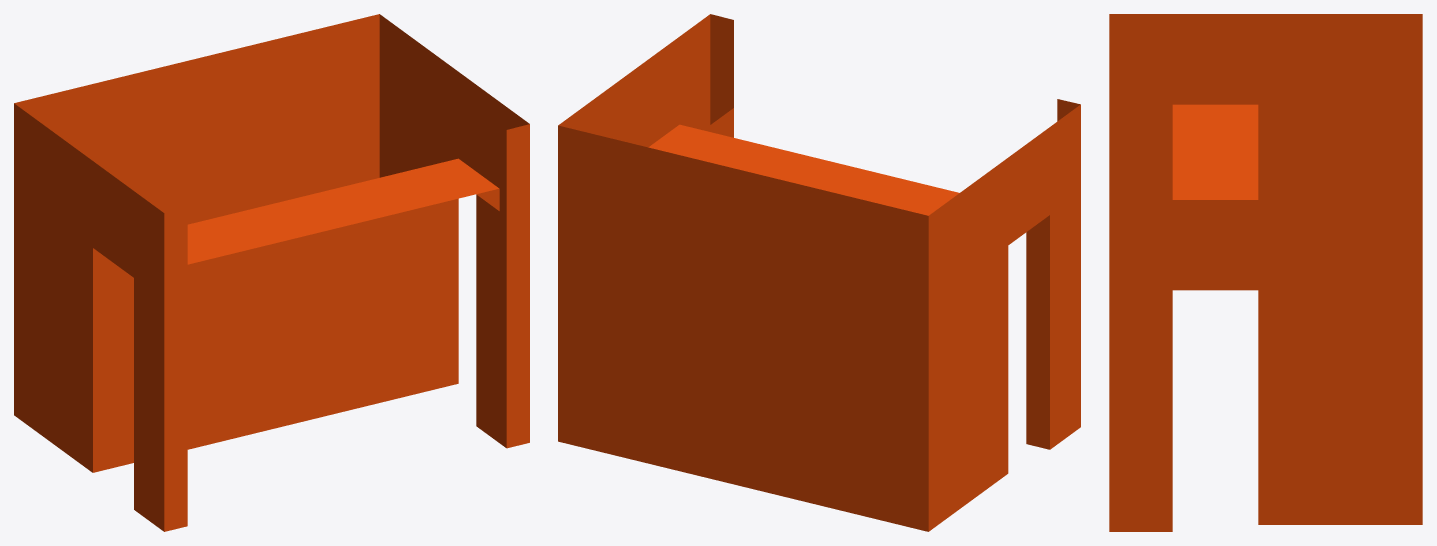
File: Hair Female For Hat 02.FBX
The picture shows the model from 3 angles, left to right: view 1: azimuth 30°, elevation 25°; view 2: azimuth 150°, elevation 25°; view 3: azimuth 270°, elevation 25°; orthographic projection. The views are drawn at different scales.
Visible parts, largest first — view 1: Hair Female For Hat 02; view 2: Hair Female For Hat 02; view 3: Hair Female For Hat 02.
Boxes of the visible parts, x1,y1,x2,y2 form: Hair Female For Hat 02: (14,14,529,531); Hair Female For Hat 02: (558,14,1080,531); Hair Female For Hat 02: (1109,14,1422,531).
Bounding box in the file's own units: 55.93 × 46.59 × 39.83.
1 material, 1 textured.
